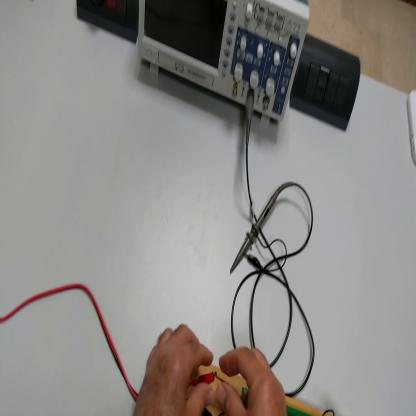hand: (134, 325, 215, 416), (215, 346, 288, 412)
high voltage board: (216, 379, 305, 416)
oscilloscope: (136, 1, 312, 127)
oscilloscope probe tip: (231, 187, 284, 278)
socket: (75, 2, 140, 48)
working area: (188, 354, 328, 415)
